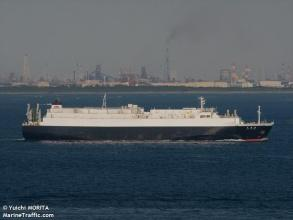Cargoship: (23, 86, 269, 141)
